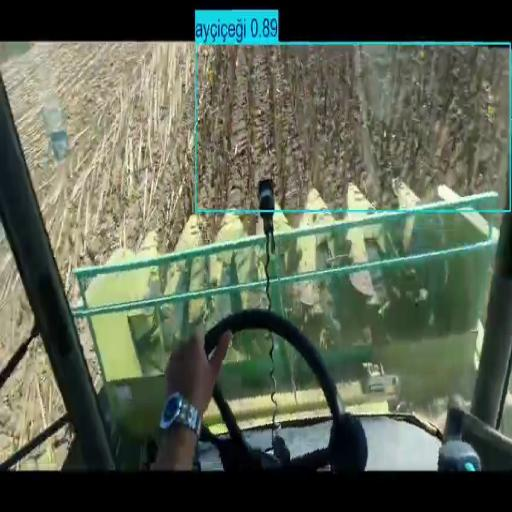ayc: (197, 46, 508, 208)
